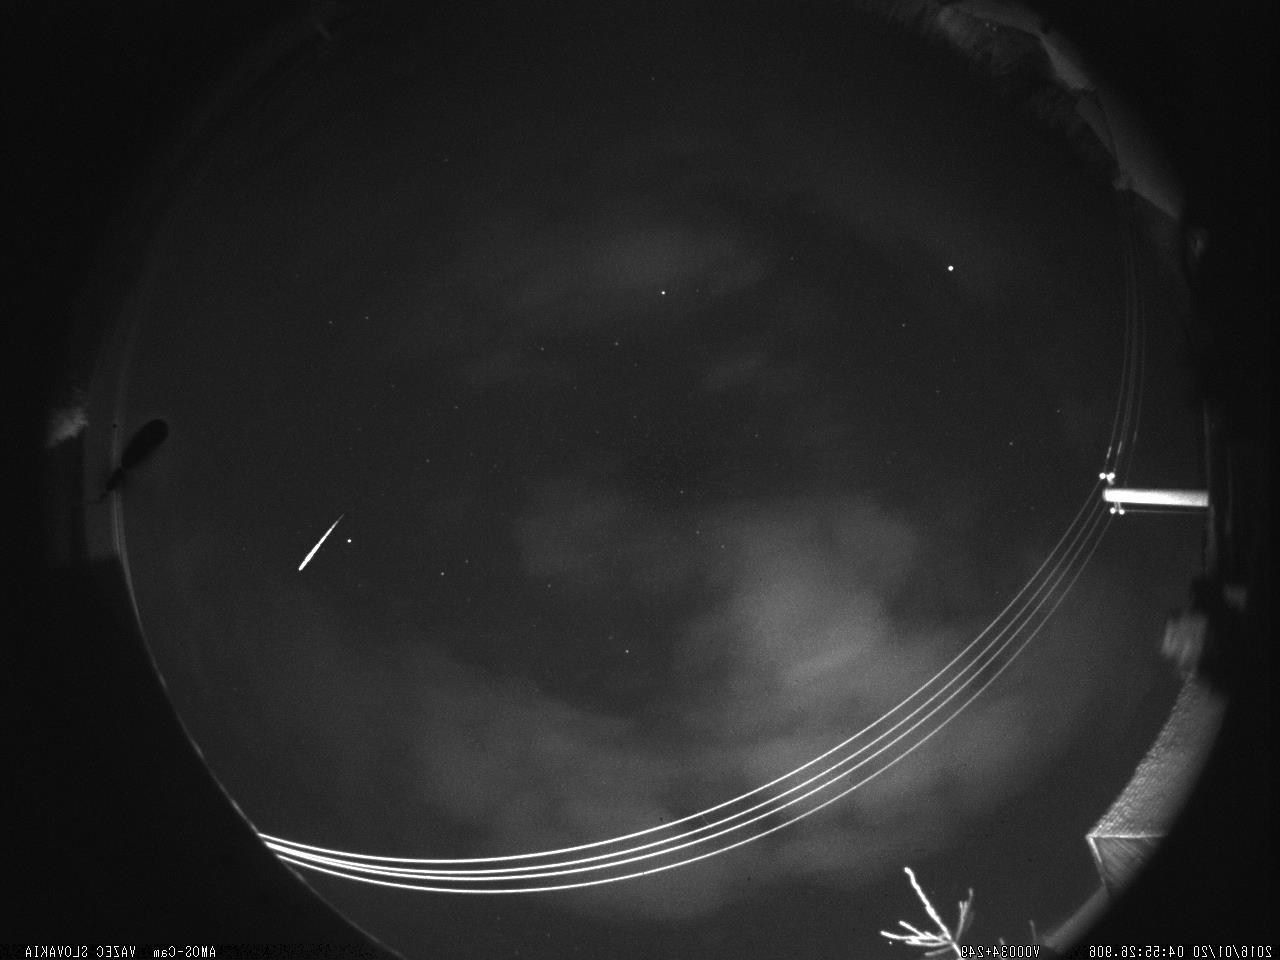meteor: (289, 501, 358, 580)
